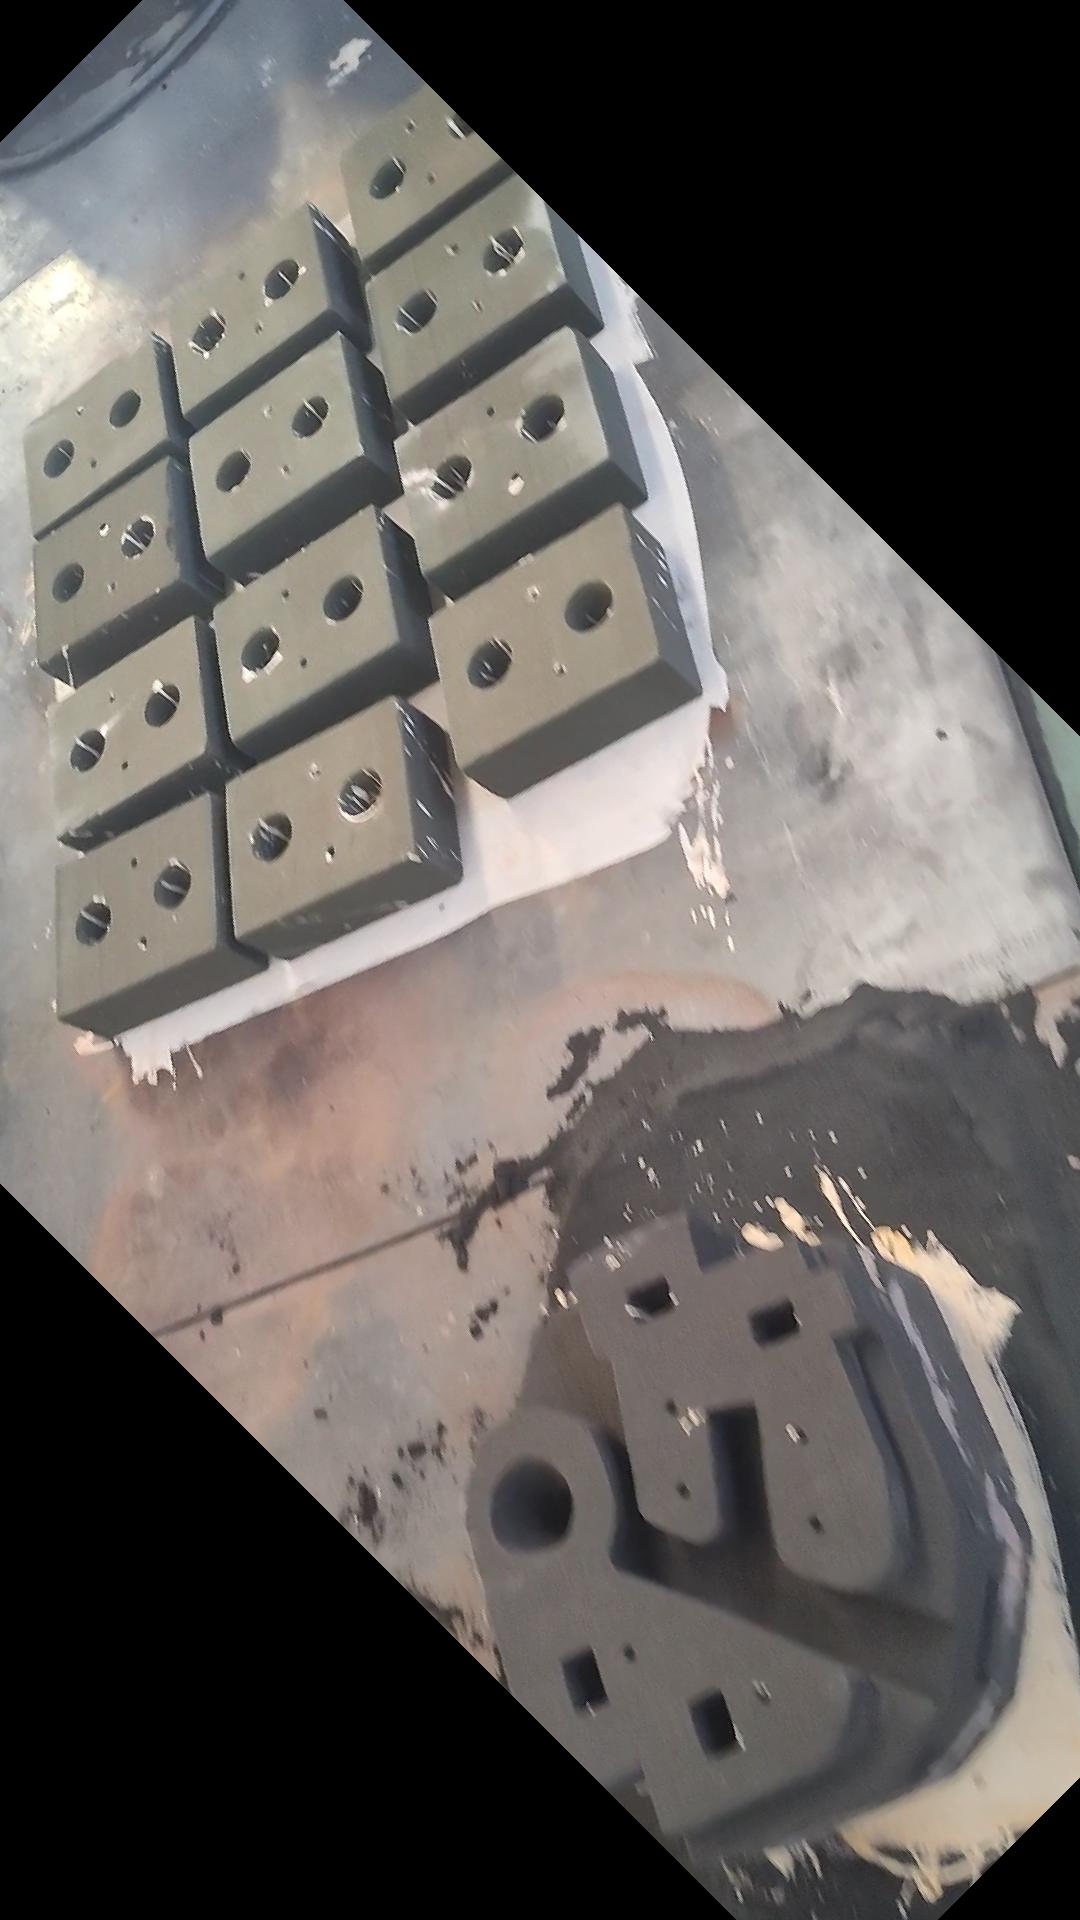pouring hole: (493, 1458, 574, 1555), (562, 580, 615, 633), (514, 394, 564, 444), (465, 637, 513, 687), (338, 769, 382, 820), (249, 811, 291, 862), (483, 227, 527, 274), (393, 287, 438, 331), (429, 454, 472, 498), (322, 575, 363, 622), (153, 864, 193, 909), (239, 628, 280, 669), (74, 905, 112, 945), (70, 729, 107, 771), (261, 258, 298, 299), (144, 684, 179, 727), (291, 396, 327, 436), (190, 313, 225, 352), (369, 158, 405, 198), (120, 518, 156, 558), (216, 451, 251, 491), (51, 563, 84, 603), (41, 440, 74, 477), (109, 390, 141, 427), (444, 109, 473, 138)
